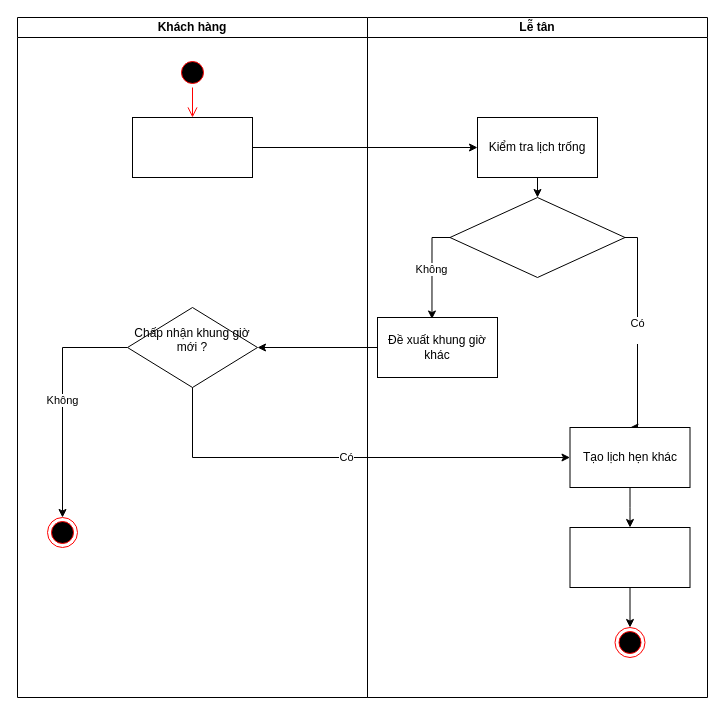
Image size: 725x715. Some labels were removed from this diagram. Here are the shapes that lost their labels. From the top down, the box of each, then its label:
(132, 116, 252, 178): Yêu cầu đặt lịch hẹn
(449, 196, 625, 278): Kiẻm tra khung giờ còn trống không?
(569, 526, 690, 588): Xác nhận lịch hẹn
